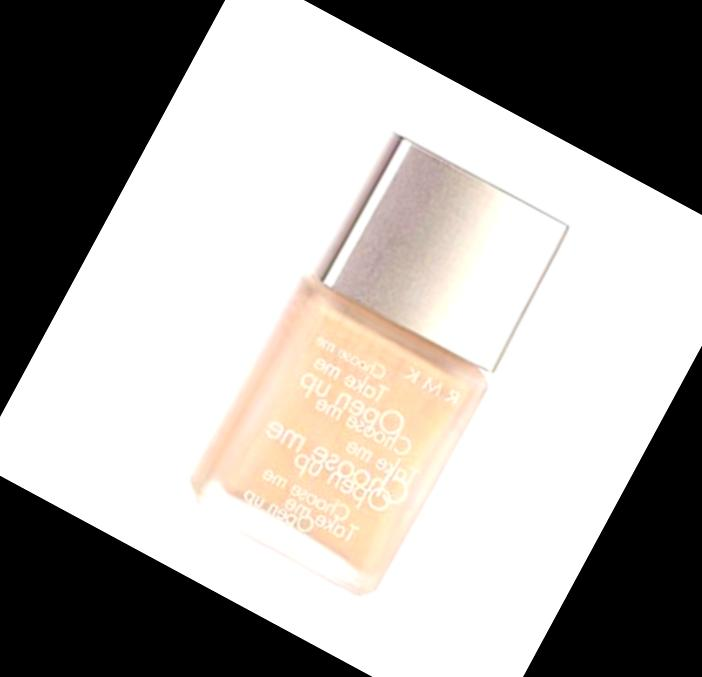cosmetic: (173, 119, 578, 607)
